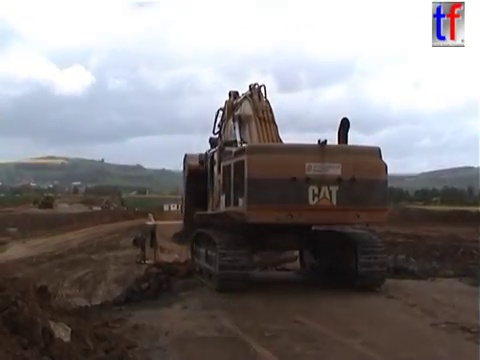excavator: (177, 78, 395, 293), (87, 194, 120, 215)
truck: (130, 210, 307, 294), (38, 193, 60, 211), (31, 196, 41, 207)
